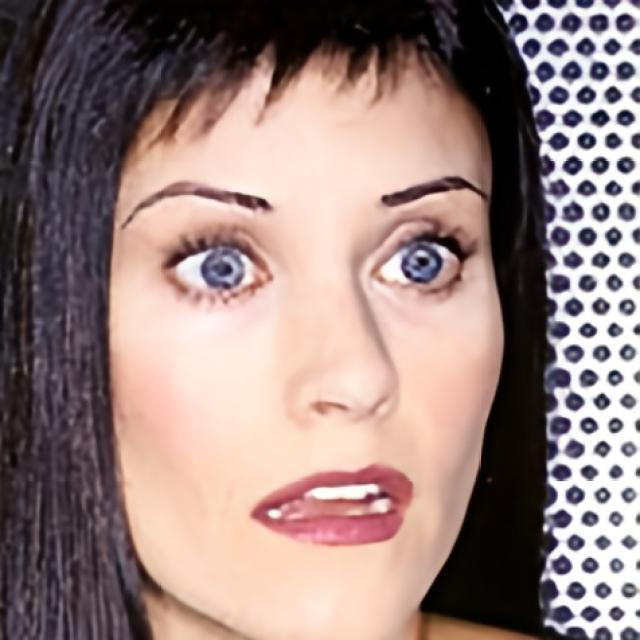surprise: (105, 34, 505, 640)
